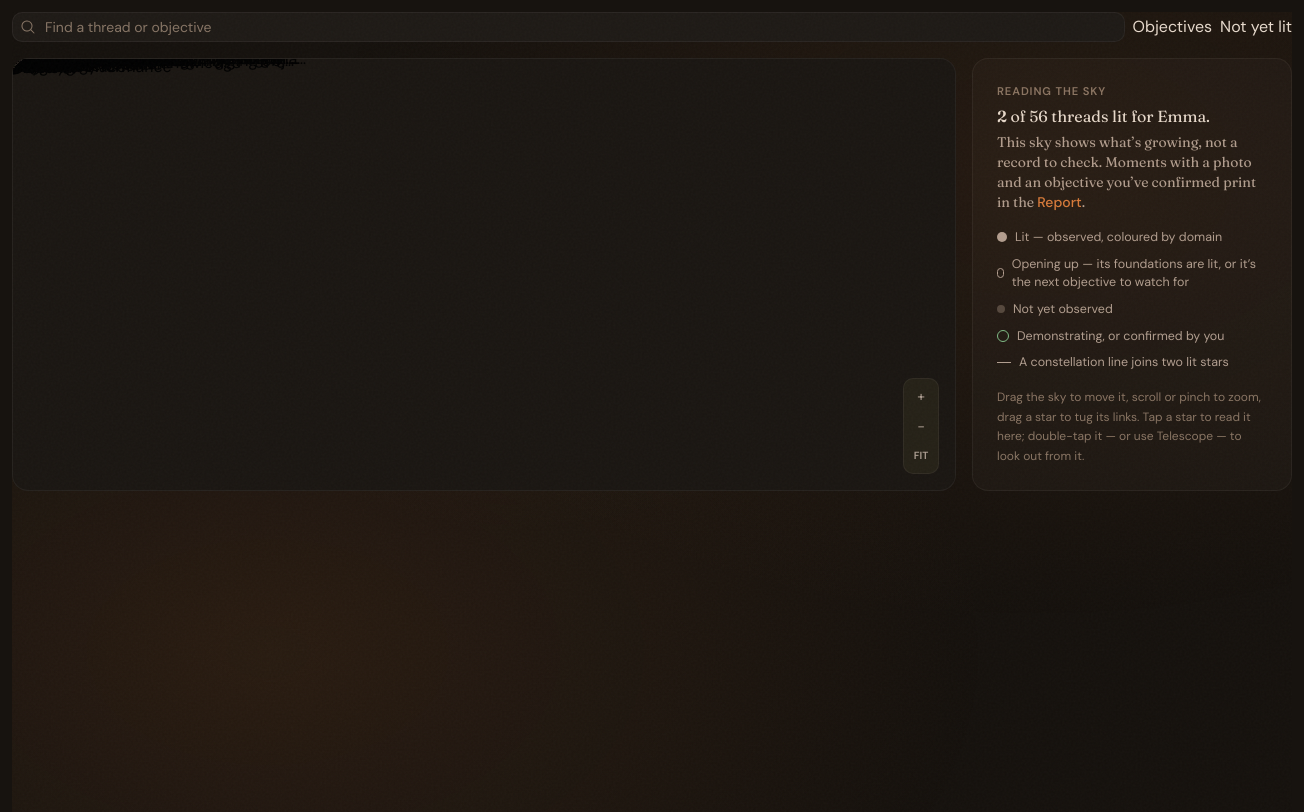
Scenario: ConstellationGraph — the whole constellation › search lights matching nodes and Enter selects the first
In the search field labelled "Find a thread or objective": point(568, 27) [12, 12, 1124, 42], type "phonolog"
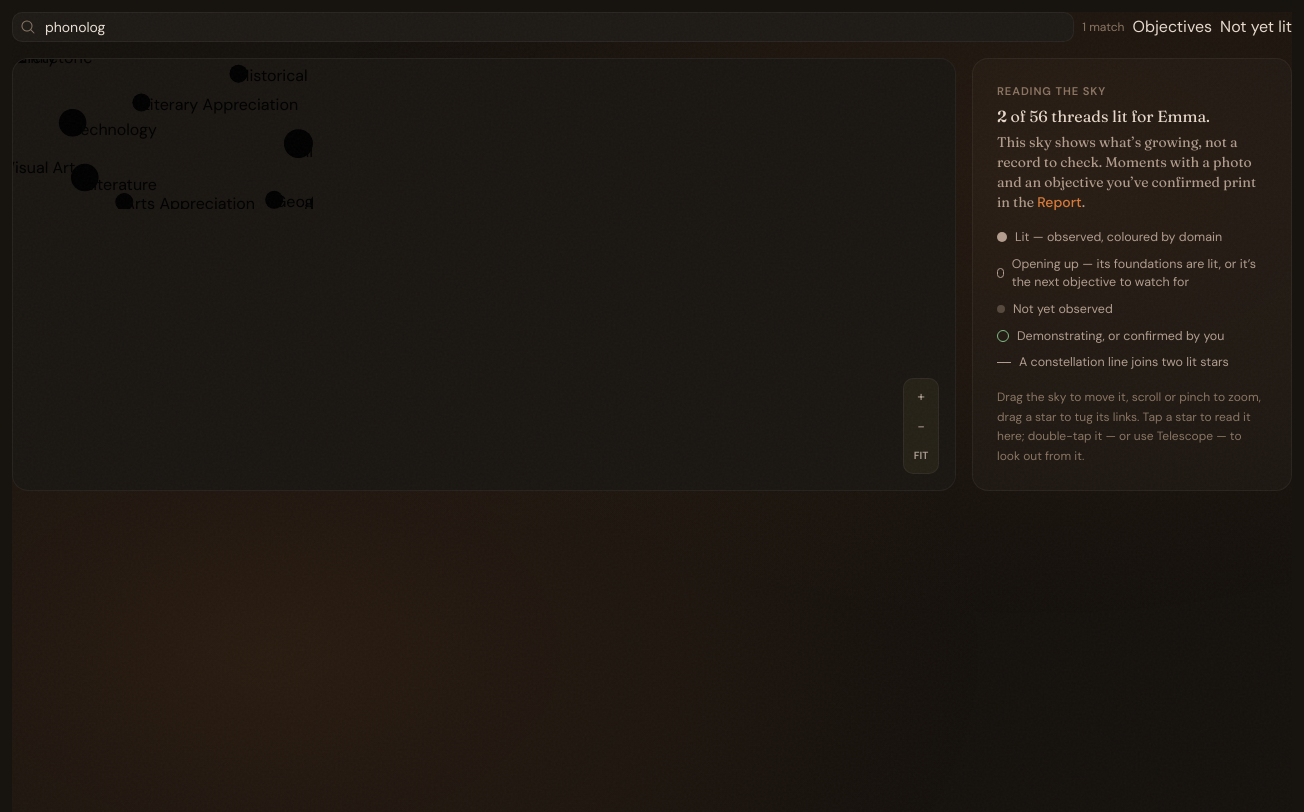
expect the text "1 match" is shown: met, box [1082, 18, 1124, 36]
Submit the form named "Find a thread or objective", box [12, 12, 1074, 42]
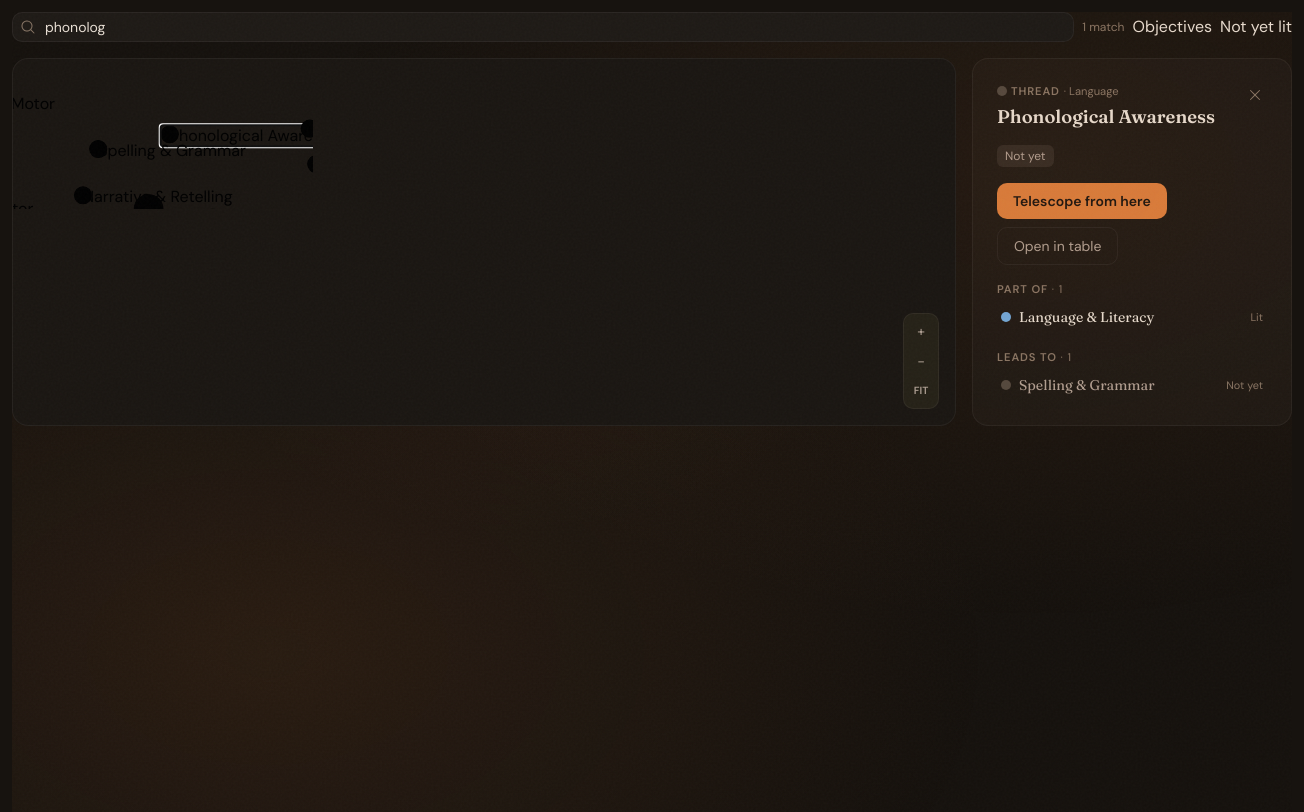
expect the heading "Phonological Awareness" is shown: met, box [997, 104, 1215, 129]
